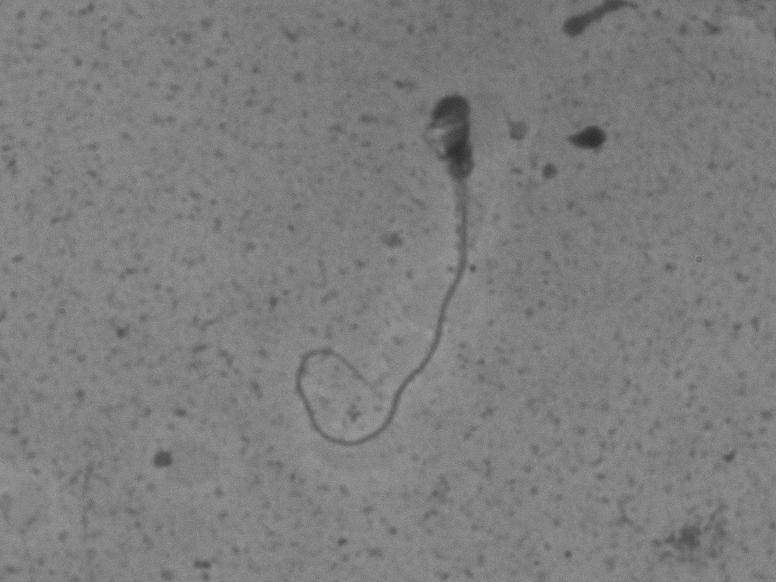Abnormal: (259, 63, 533, 474)
